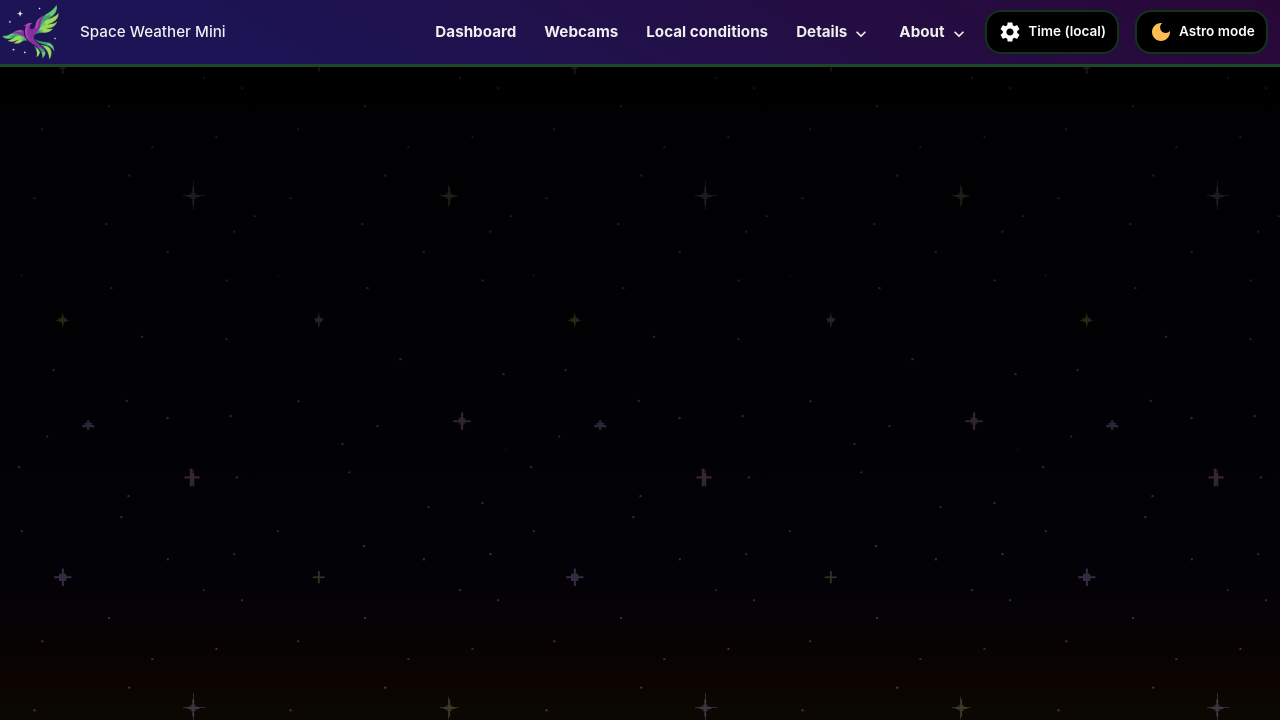
Time modal (ticket 02) › opens from the nav button, named by its visible heading, with the checkbox unchecked by default
Click the button "Time (local)". click: (1052,32)
box: top-left (985, 10), bottom-right (1119, 54)
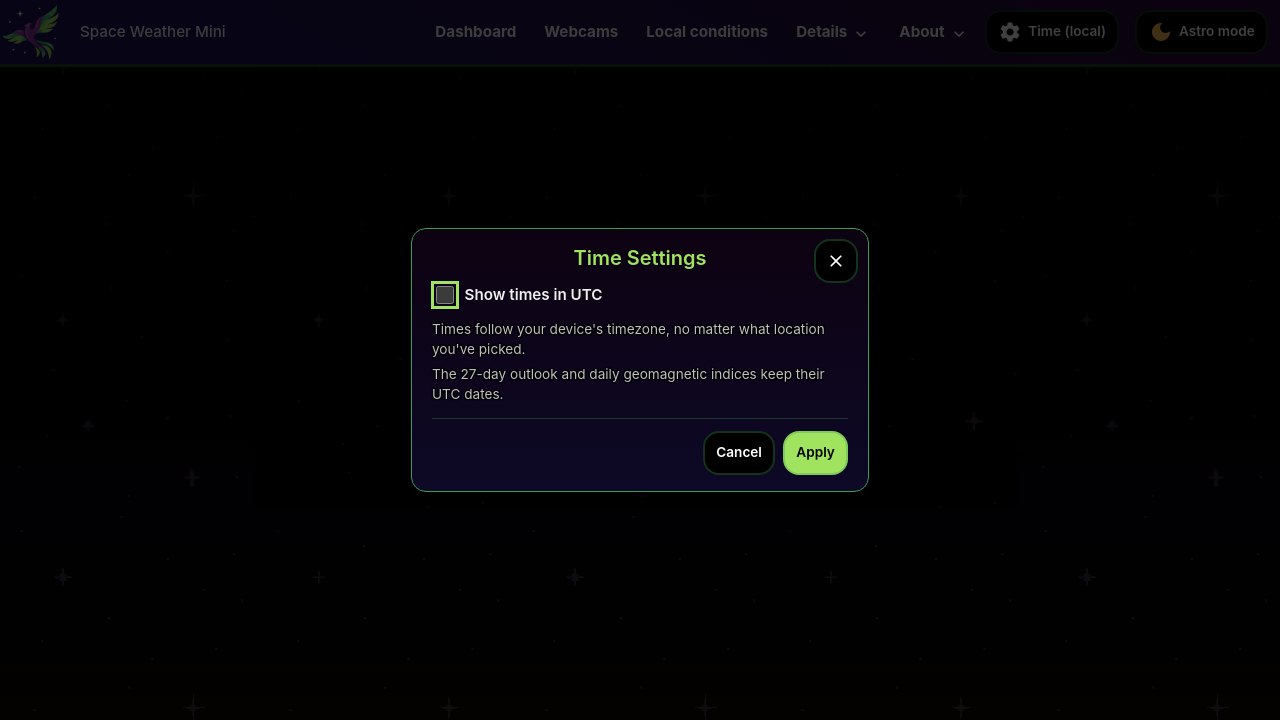
Expected: the checkbox labelled "Show times in UTC" is not checked, top-left (436, 286), bottom-right (454, 304)
